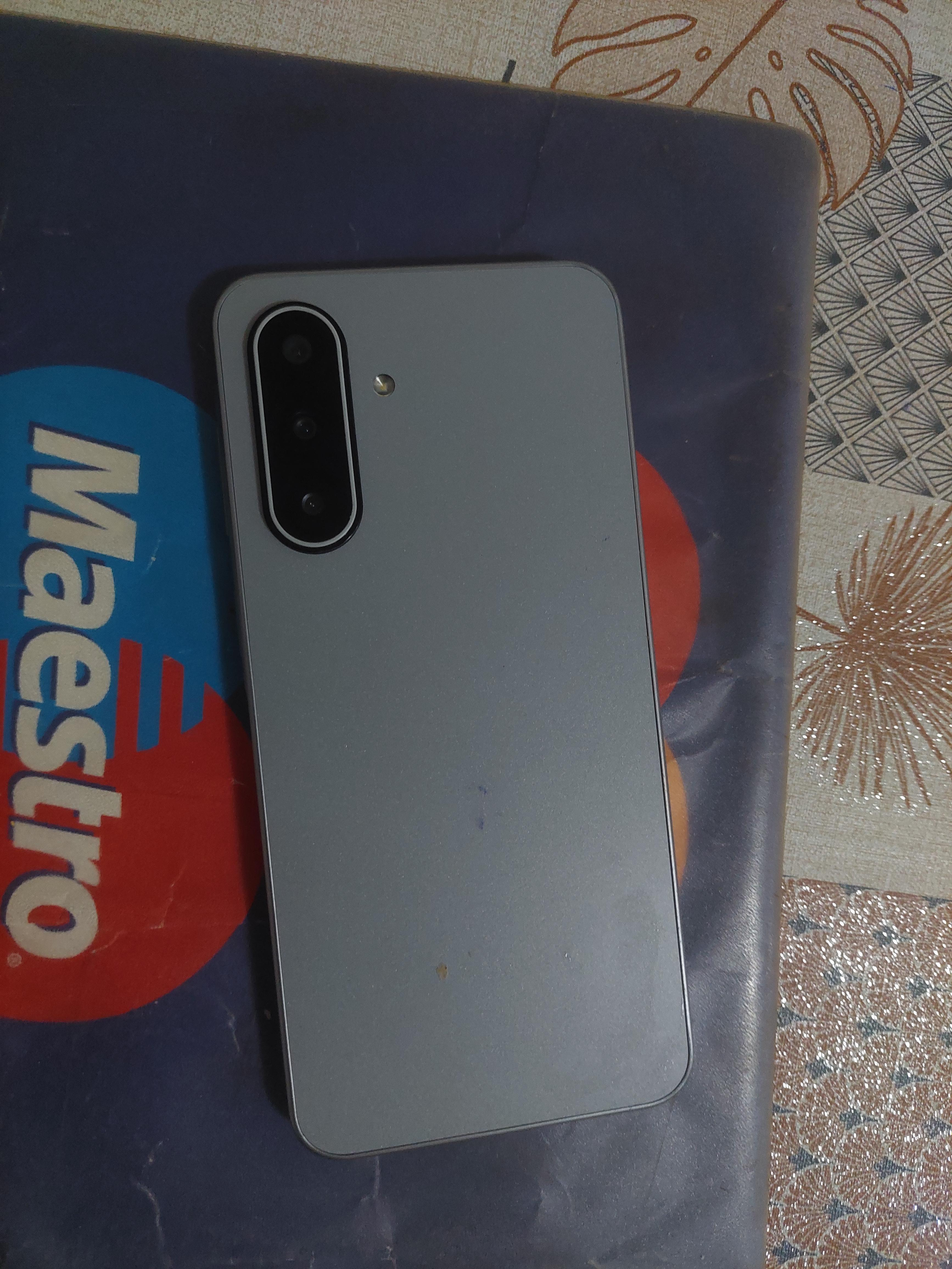smartphone: (213, 260, 694, 1160)
